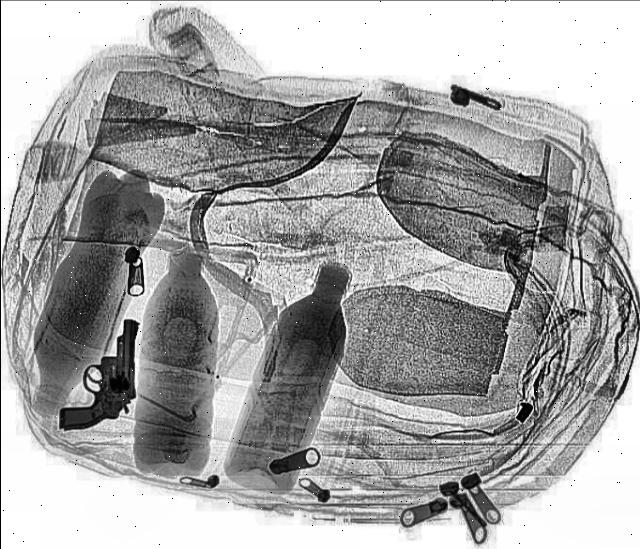Gun: (48, 312, 162, 442)
